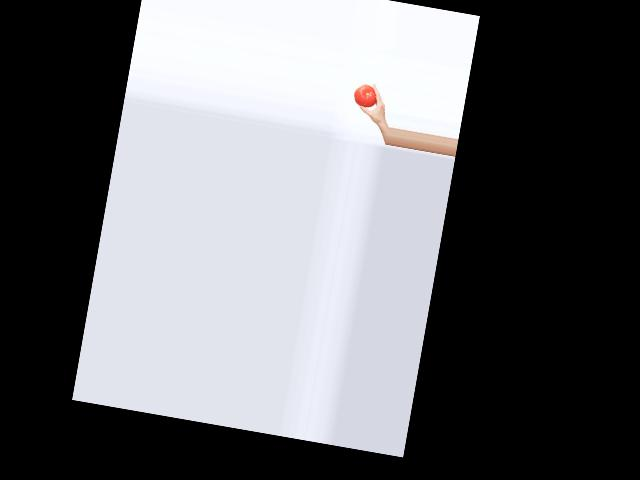tomato: (352, 82, 378, 108)
